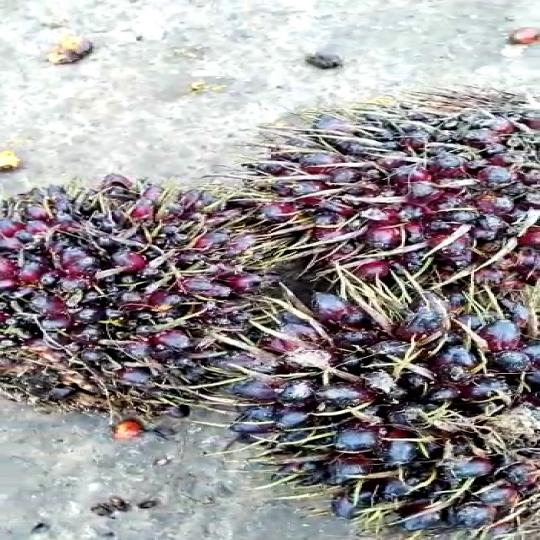kurang masak: (228, 277, 540, 540), (0, 167, 264, 446), (246, 88, 540, 293)
